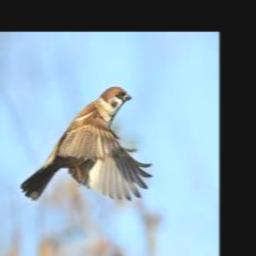Sparrow: (21, 86, 153, 202)
